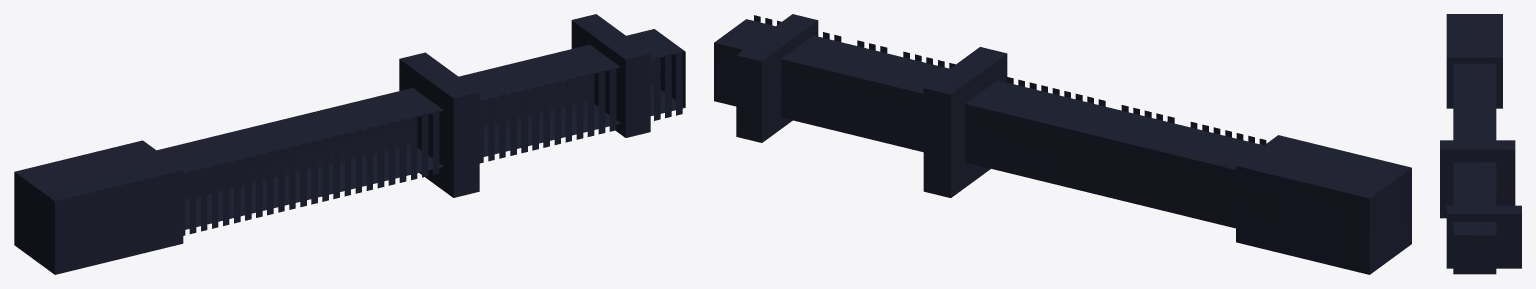
Rendered from Building_Decor_02.glb.
The picture shows the model from 3 angles, left to right: view 1: azimuth 30°, elevation 25°; view 2: azimuth 150°, elevation 25°; view 3: azimuth 270°, elevation 25°; orthographic projection. The views are drawn at different scales.
Parts seen in each view (by area): view 1: buildings_decor_01_geo; view 2: buildings_decor_01_geo; view 3: buildings_decor_01_geo.
Part boxes in pixels (x1,y1,x2,y2): buildings_decor_01_geo: (14, 14, 685, 274); buildings_decor_01_geo: (714, 14, 1411, 274); buildings_decor_01_geo: (1440, 14, 1521, 274).
Size of what is drawn, in the model's own units: 11.82 by 1.77 by 1.9.
1 material, 1 textured.
